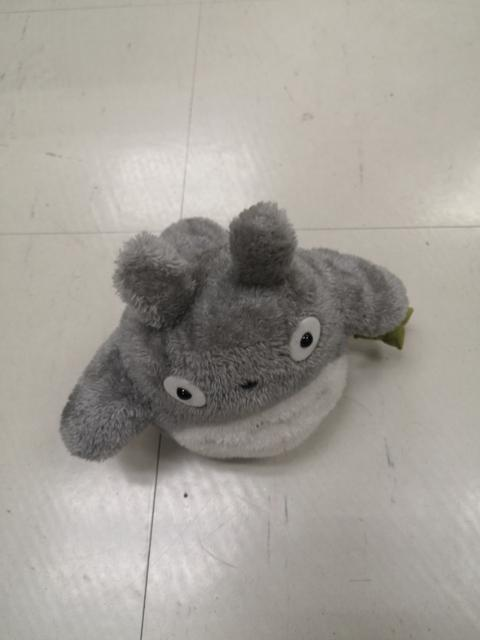totoro: (55, 198, 421, 474)
